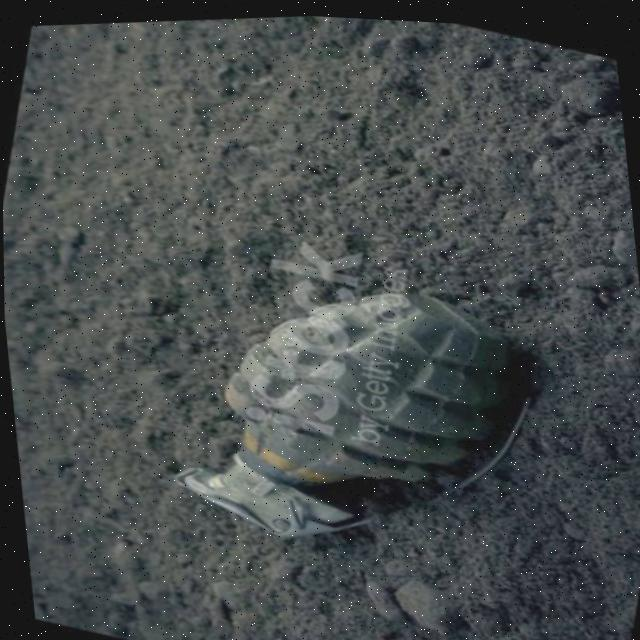grenade: (145, 219, 545, 604)
